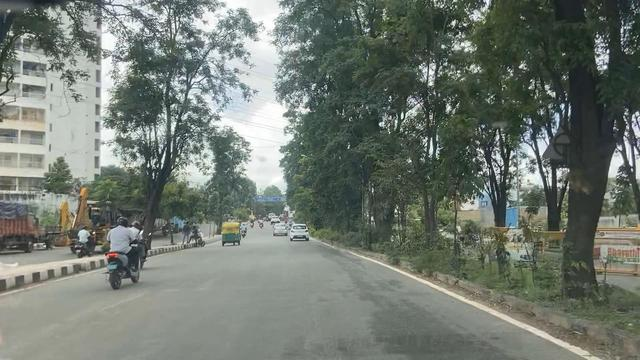LMV: (105, 219, 143, 283), (223, 221, 241, 245), (289, 225, 309, 239), (273, 222, 287, 238)
RoadDamages: (378, 330, 509, 360), (356, 289, 421, 323), (286, 334, 370, 360), (338, 255, 378, 288)
